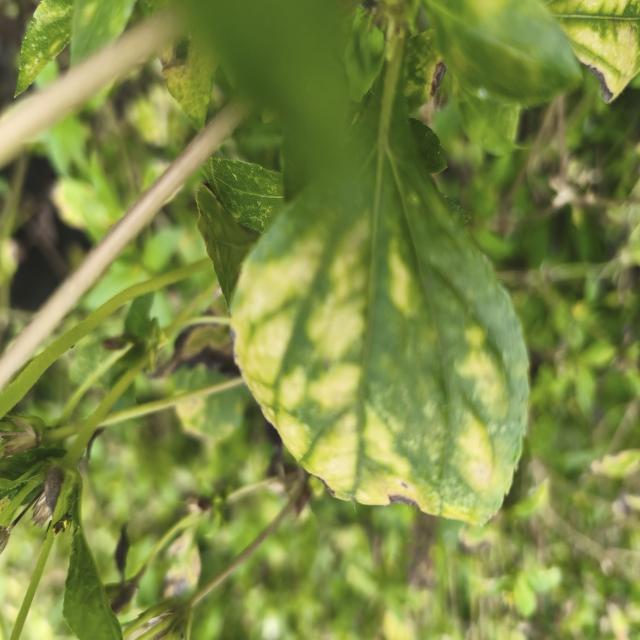Virus Kuning: (226, 22, 532, 528)
